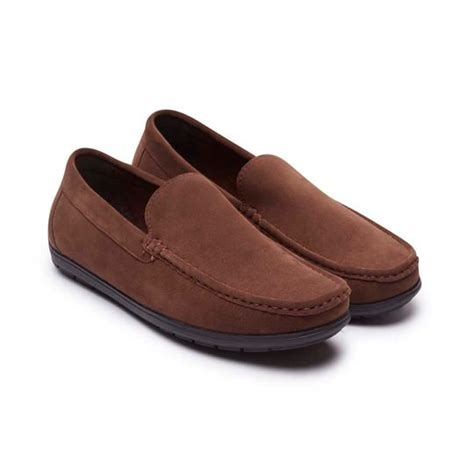gamuza: (50, 108, 421, 335)
